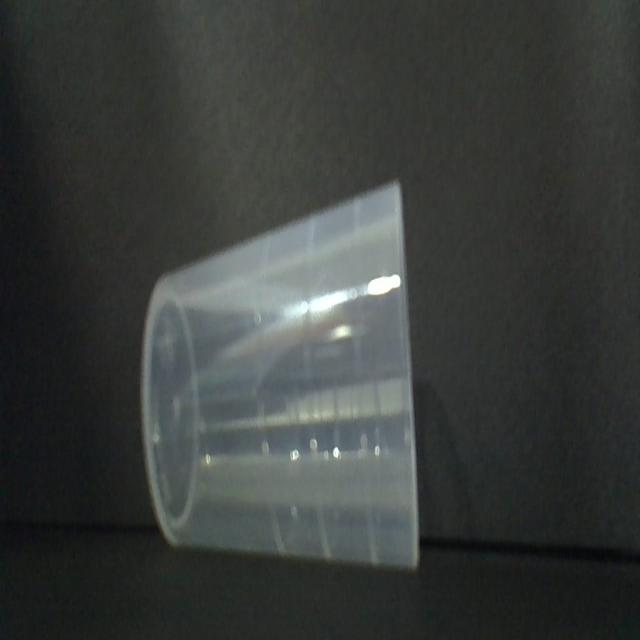cup: (134, 175, 435, 581)
